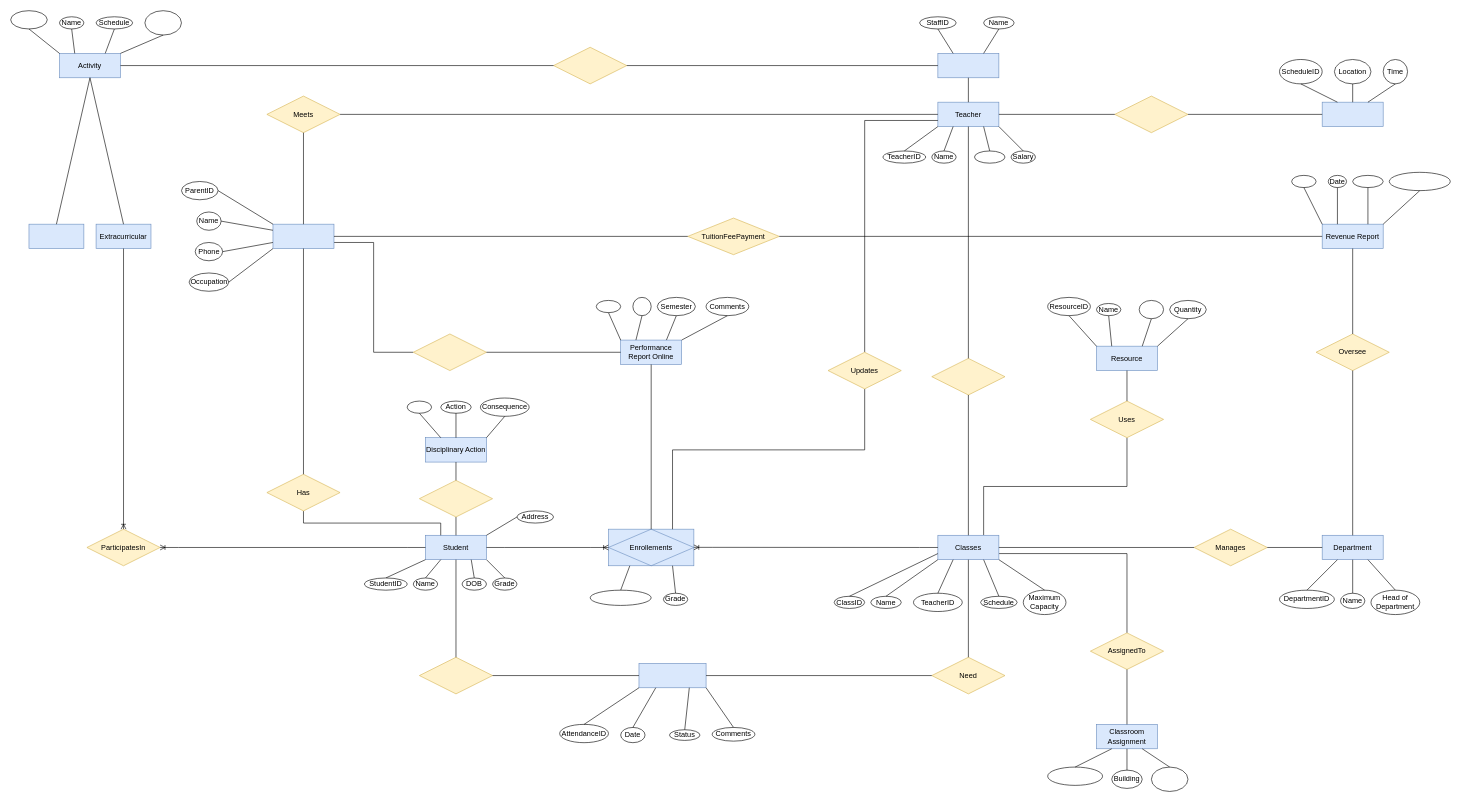
This 1461x802 diagram has some shape labels left out. Here are the shapes that lost their labels. From the top down, the centre of each, then its label:
At point 28,19: "ActivityID".
At point 162,22: "Assigned Staff".
At point 590,65: "Manage".
At point 968,65: "Staff".
At point 1151,114: "Checks".
At point 1352,114: "Teaching Schedule".
At point 989,156: "Subject".
At point 1303,181: "RRID".
At point 1367,181: "Source".
At point 1419,181: "Payment Method".
At point 56,236: "Academic".
At point 303,236: "Parent".
At point 608,306: "PRID".
At point 641,306: "GPA".
At point 1151,309: "Type".
At point 449,352: "Views".
At point 968,376: "Teaches".
At point 419,406: "DAID".
At point 456,498: "Faces".
At point 620,597: "EnrollementsID".
At point 456,675: "Attends".
At point 672,675: "AttendanceReport".
At point 1075,775: "AssignmentID".
At point 1169,778: "Room Number".
